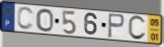5: (61, 9, 78, 36)
6: (84, 12, 99, 37)
C: (127, 15, 147, 42), (16, 6, 35, 32)
O: (35, 8, 55, 33)
P: (107, 13, 126, 40)
